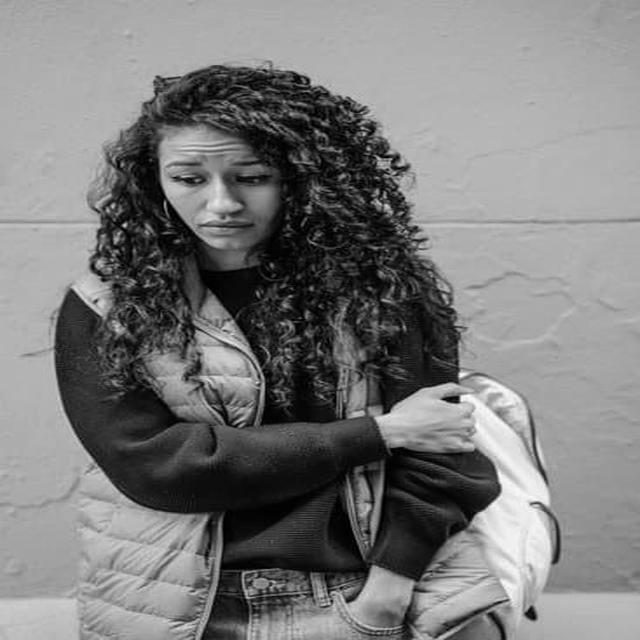Sadness: (160, 131, 285, 251)
